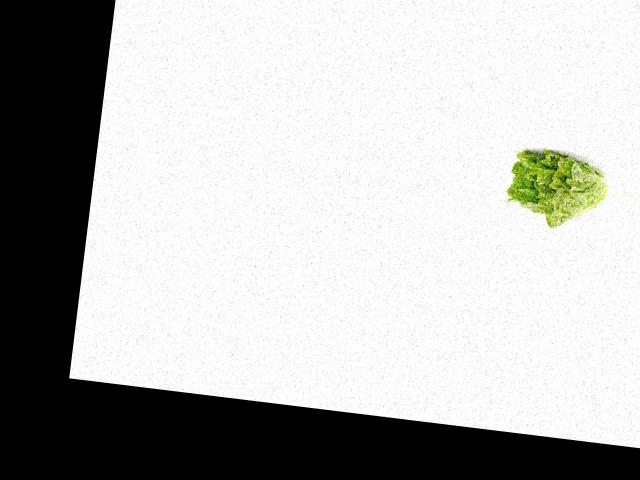lettuce: (504, 140, 612, 232)
